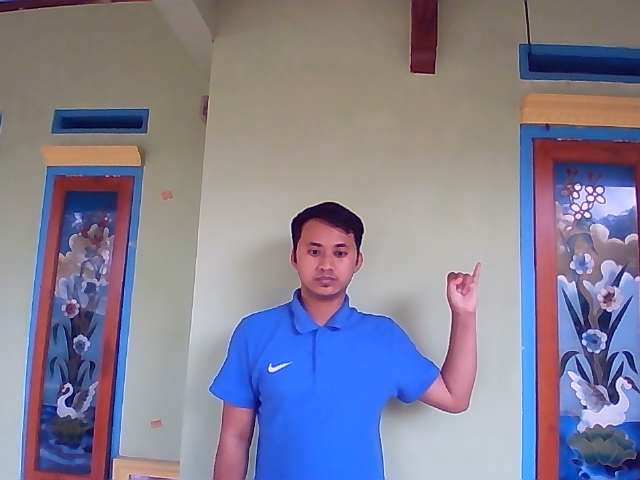I: (445, 261, 483, 319)
